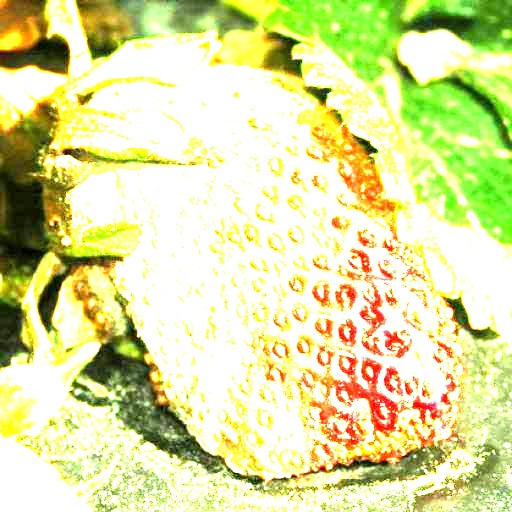Gray Mold: (34, 33, 466, 481)
